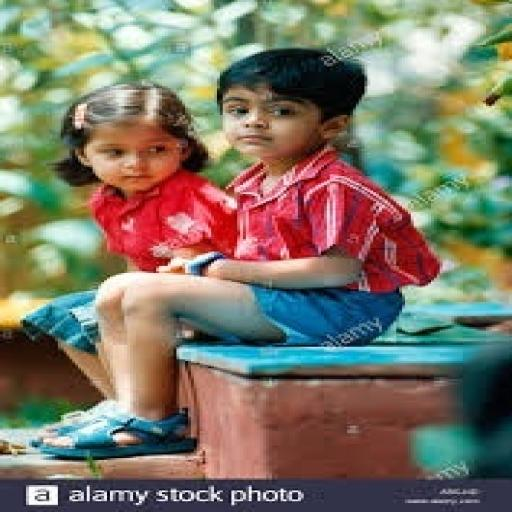sitting: (23, 45, 443, 456)
